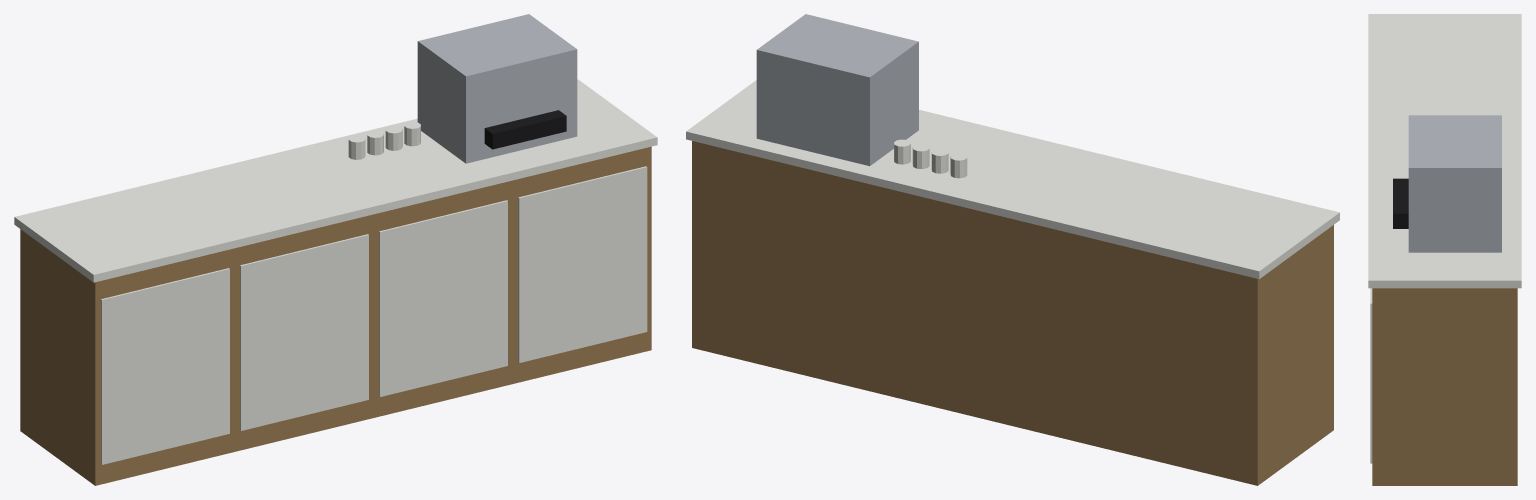
Rendered from cafe counter.glb.
The picture shows the model from 3 angles, left to right: view 1: azimuth 30°, elevation 25°; view 2: azimuth 150°, elevation 25°; view 3: azimuth 270°, elevation 25°; orthographic projection. The views are drawn at different scales.
Visible parts, largest first — view 1: cafe counter; view 2: cafe counter; view 3: cafe counter.
Part boxes in pixels (x1,y1,x2,y2): cafe counter: [14, 14, 657, 485]; cafe counter: [686, 14, 1339, 485]; cafe counter: [1368, 14, 1521, 485].
Bounding box in the file's own units: 3.04 × 1.55 × 0.74.
